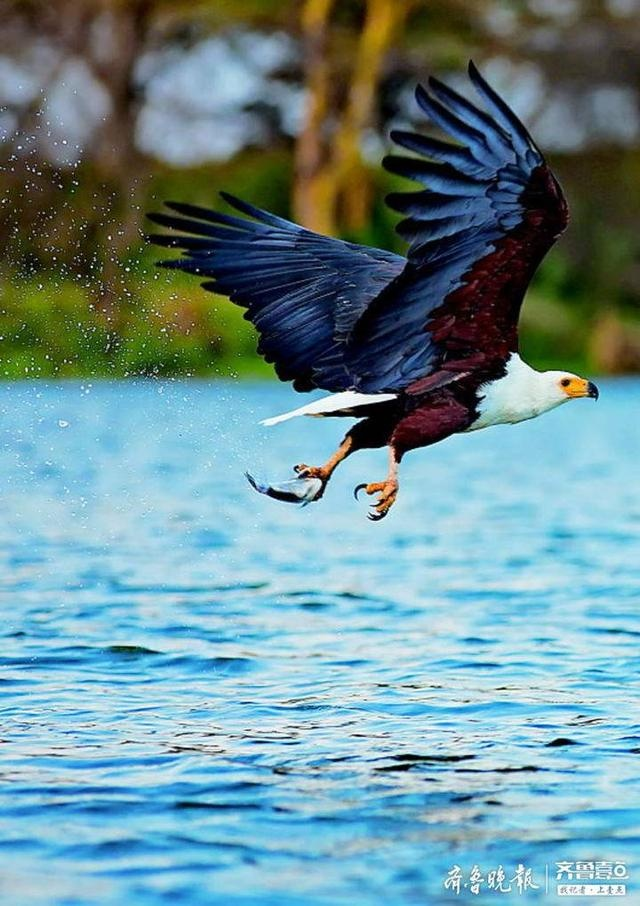bird: (144, 63, 599, 529)
